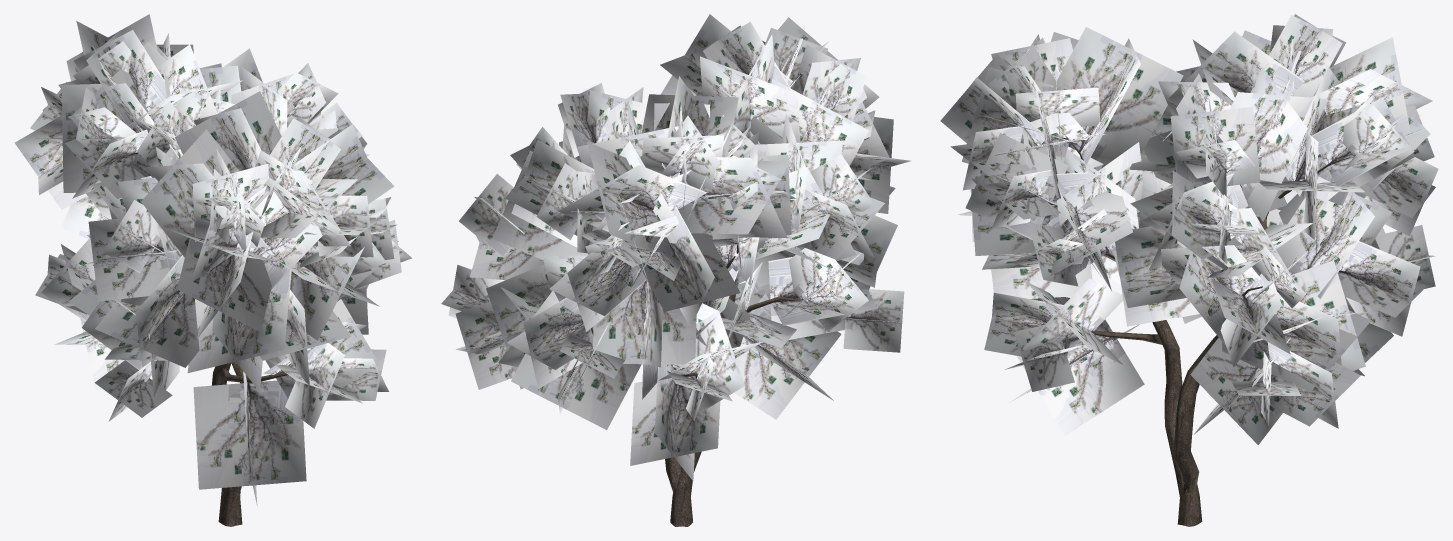
The model's file is TreeWaxCherry-white2.fbx.
3 views of the same model, side by side, from view 1: azimuth 30°, elevation 25°; view 2: azimuth 150°, elevation 25°; view 3: azimuth 270°, elevation 25° (orthographic). The views are drawn at different scales.
Parts seen in each view (by area): view 1: TreeWaxCherry-white2_LOD0; view 2: TreeWaxCherry-white2_LOD0; view 3: TreeWaxCherry-white2_LOD0.
Part boxes in pixels (left/top/right/bottom): TreeWaxCherry-white2_LOD0: left=14, top=14, right=411, bottom=526; TreeWaxCherry-white2_LOD0: left=441, top=14, right=910, bottom=526; TreeWaxCherry-white2_LOD0: left=940, top=14, right=1438, bottom=526.
Size of what is drawn, in the model's own units: 546 by 656 by 615.
